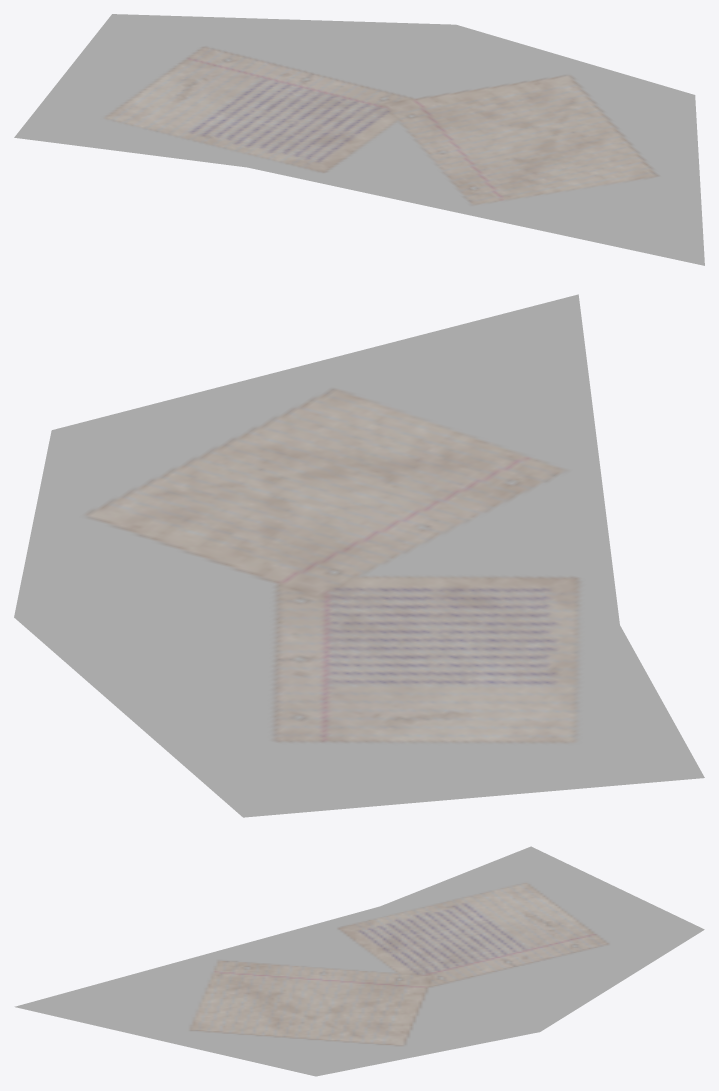
The model's file is SM_Paper_Pile_07.fbx.
3 renders of one model, top to bottom at view 1: azimuth 30°, elevation 25°; view 2: azimuth 150°, elevation 25°; view 3: azimuth 270°, elevation 25°, orthographic. The views are drawn at different scales.
Visible parts, largest first — view 1: SM_Paper_Pile_07_LOD0; view 2: SM_Paper_Pile_07_LOD0; view 3: SM_Paper_Pile_07_LOD0.
Part boxes in pixels (box(x1,y1,x2,y2)): SM_Paper_Pile_07_LOD0: box(14, 14, 704, 265); SM_Paper_Pile_07_LOD0: box(14, 294, 704, 817); SM_Paper_Pile_07_LOD0: box(14, 846, 704, 1076).
Size of the model in its own units: 43.74 by 55.51 by 1.91e-06.
